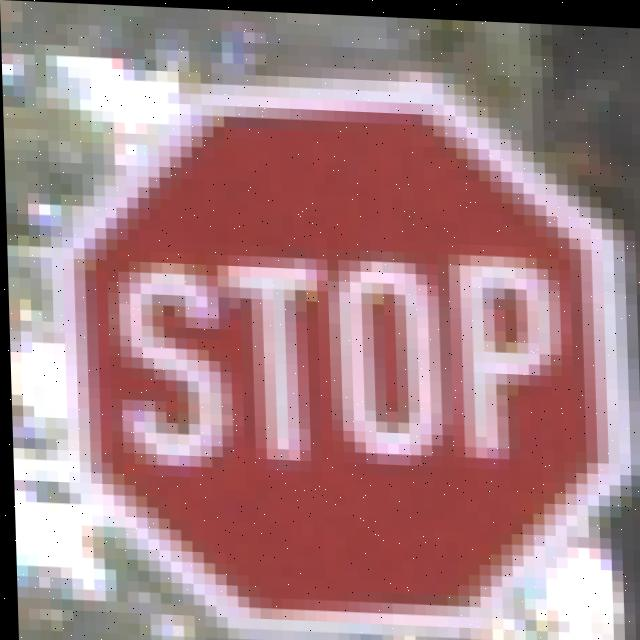stop: (68, 56, 640, 640)
